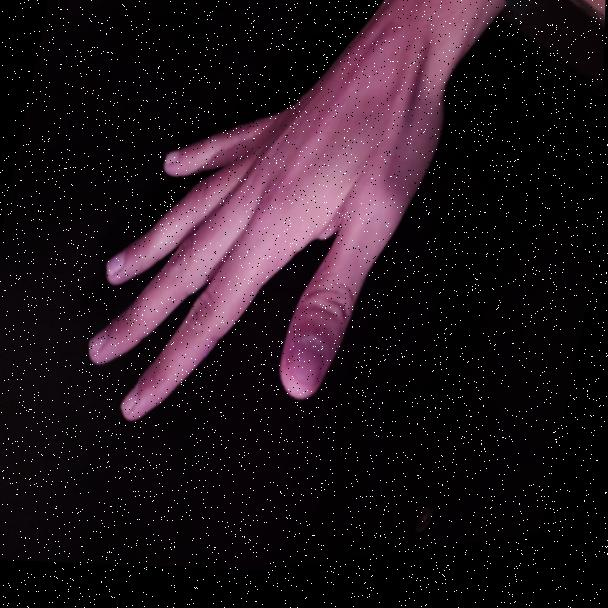five: (71, 58, 445, 479)
